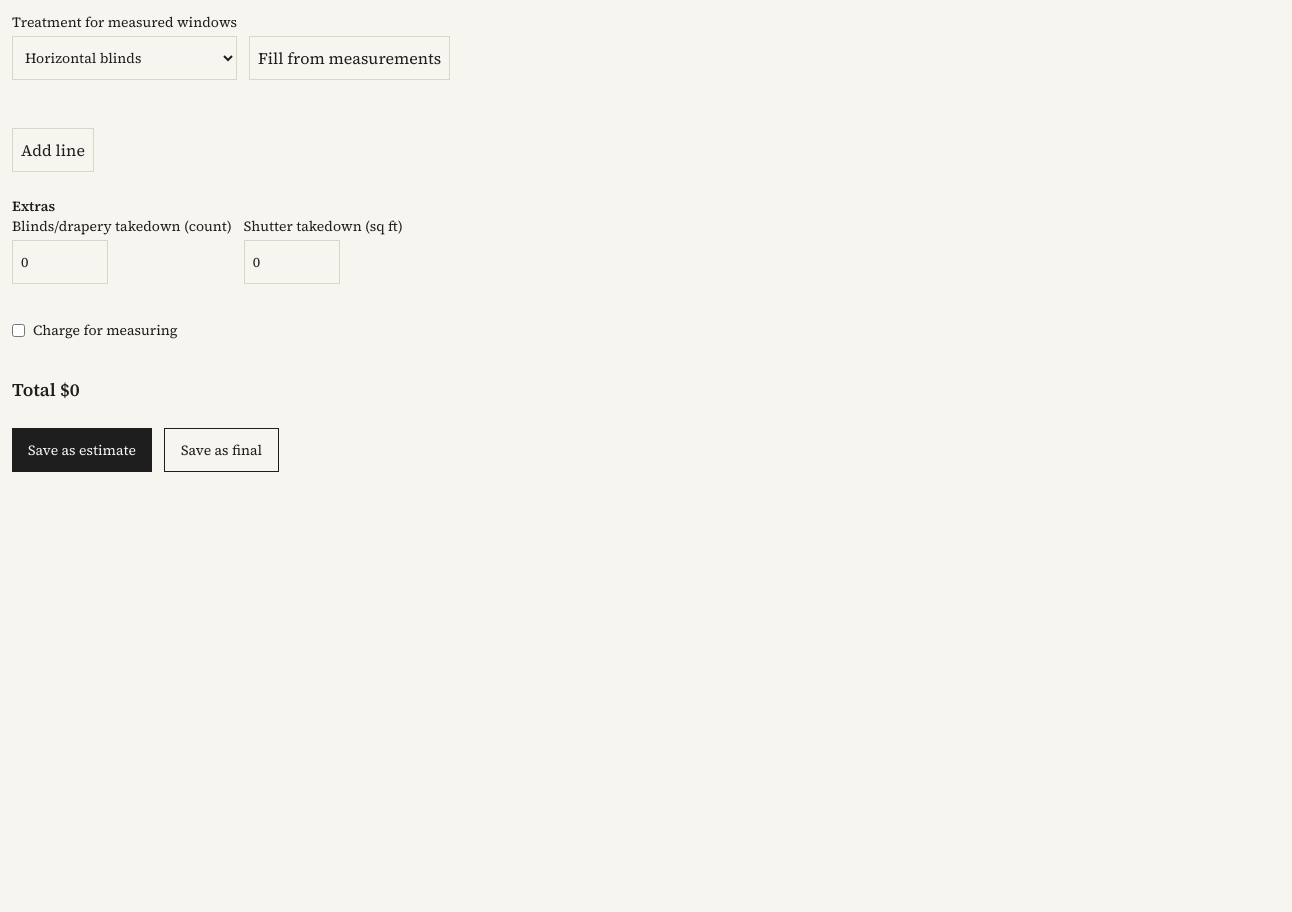
Test: InstallCalculator › fills one line per measured window, carrying its width and requirements
Select "Vertical blinds" in the dropdown labelled "Treatment for measured windows" at (124, 58), box [12,36,237,80]
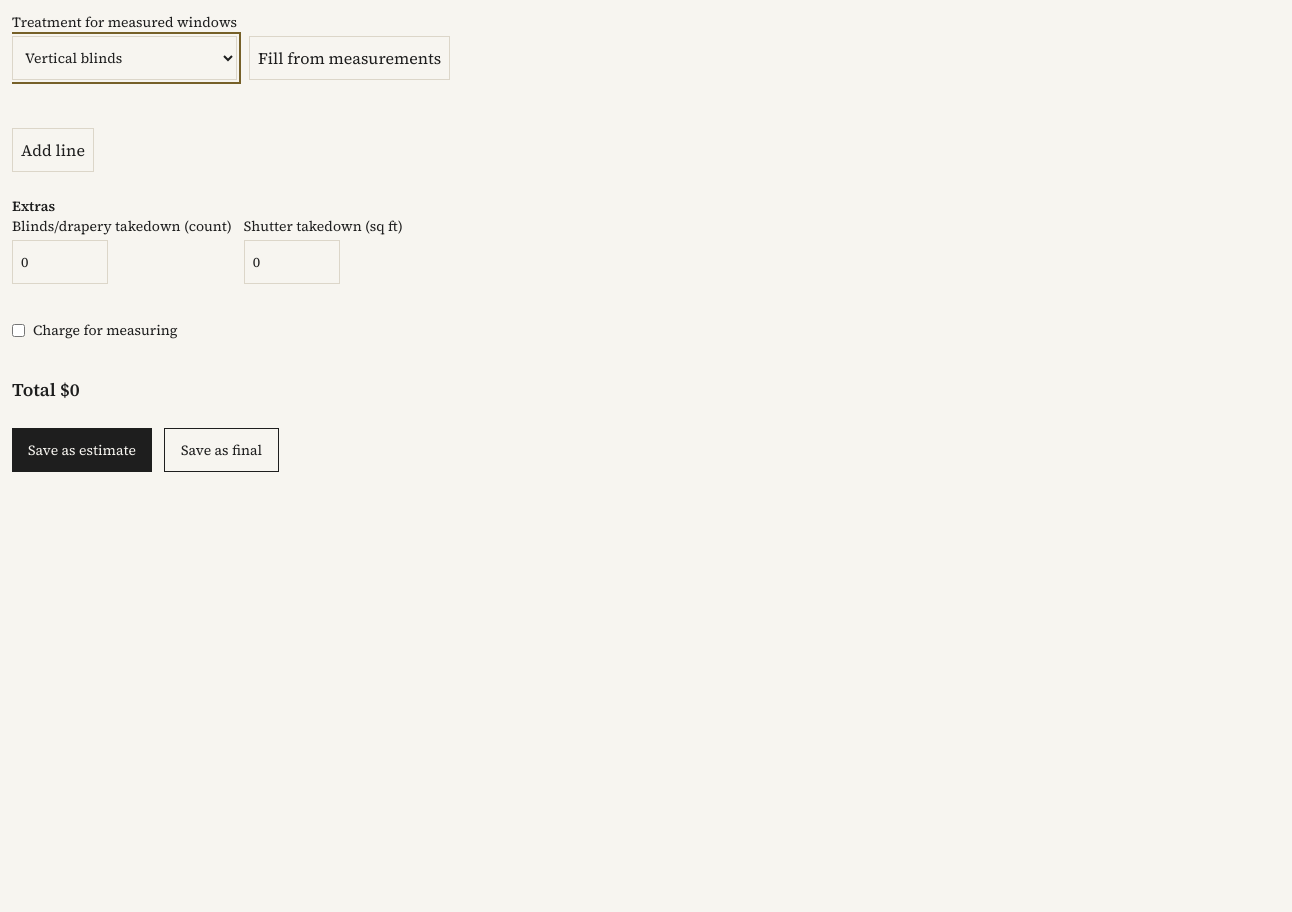
Click the button "Fill from measurements".
click(350, 58)  # box [249,36,450,80]
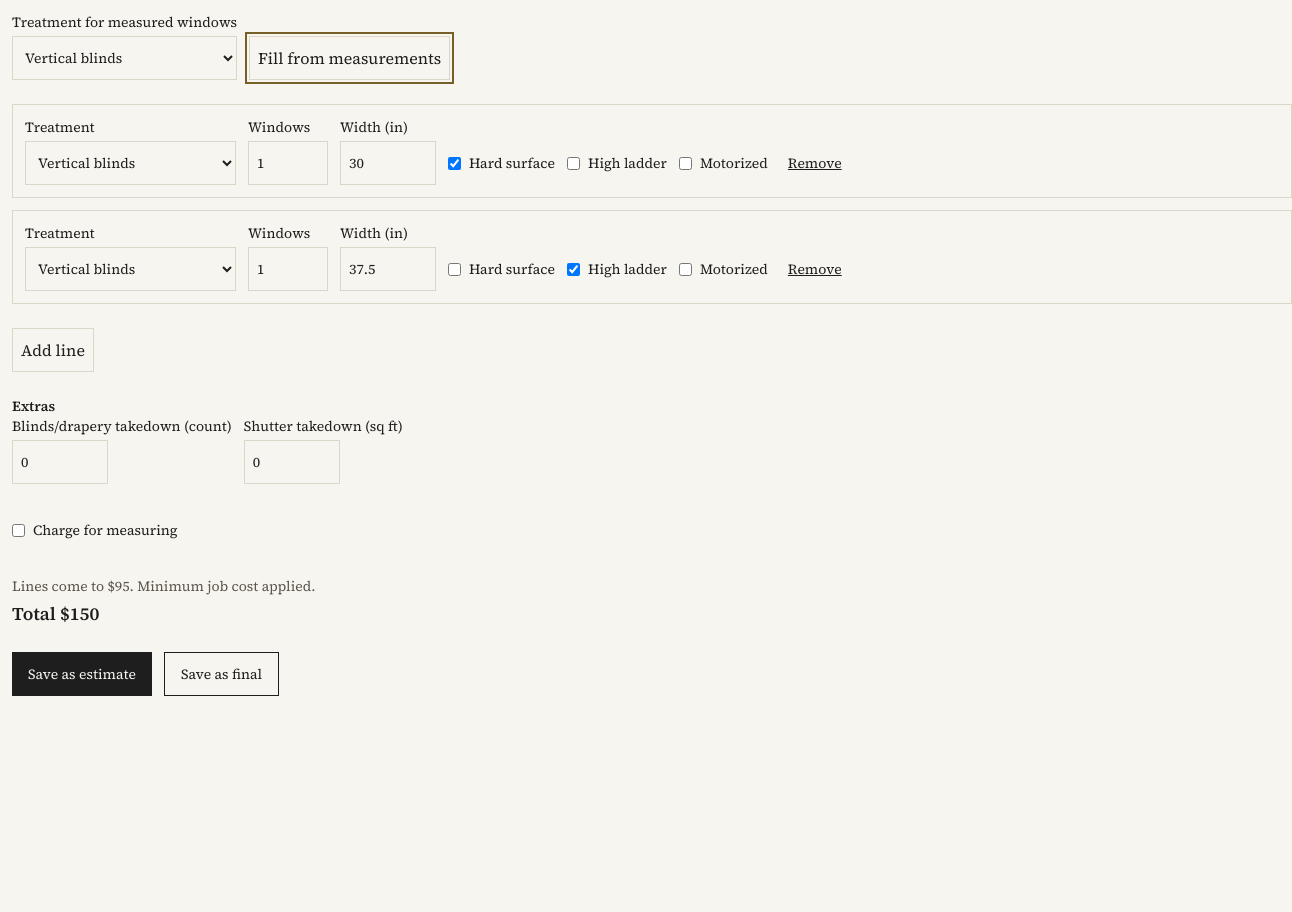
Expected: the number of dropdowns labelled "Treatment" is 2, [25,141,236,185]; [25,247,236,291]
Expected: the 1st checkbox labelled "Hard surface" is checked, [448,156,461,170]
Expected: the 1st checkbox labelled "High ladder" is not checked, [567,156,580,170]
